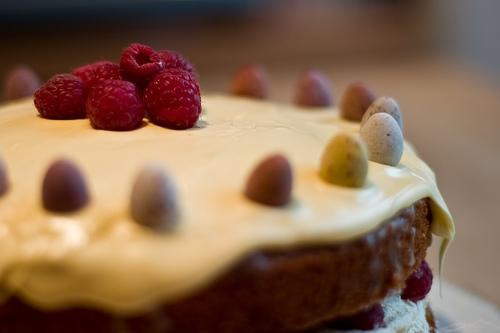raspberry: (142, 67, 202, 130), (86, 76, 146, 130), (34, 74, 88, 120), (120, 44, 164, 90), (400, 260, 433, 301), (157, 50, 199, 82), (70, 61, 118, 88), (87, 63, 127, 93), (355, 302, 384, 330)
